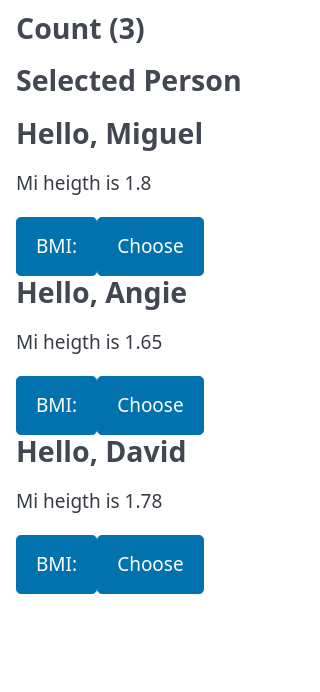
it: PeopleComponent › should raise selected event when user clicked with render
The image size is (320, 692).
Click the button with test id "btn-choose" below "Mi heigth is 1.8": [150, 246] box [97,217,204,276]
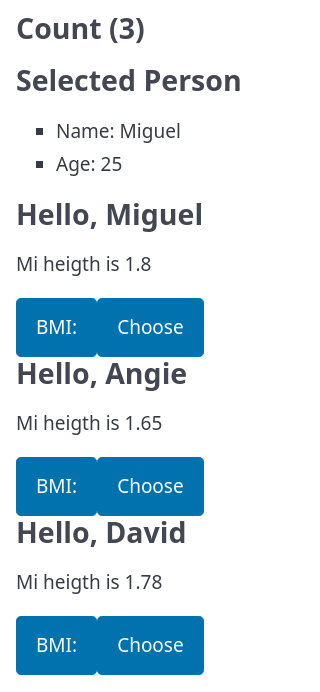
expect the list item "Name: Miguel" is shown: met, box [56,118,181,144]
expect the list item "Age: 25" is shown: met, box [56,151,122,177]
